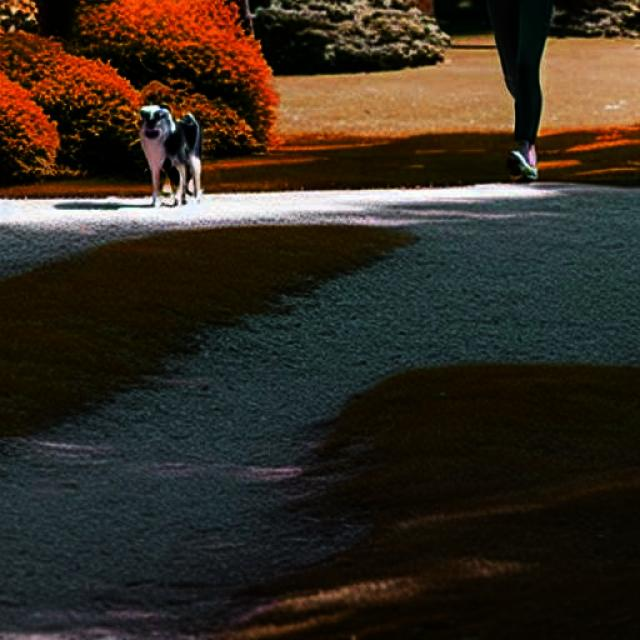Unleashed_Dog: (138, 0, 556, 206)
